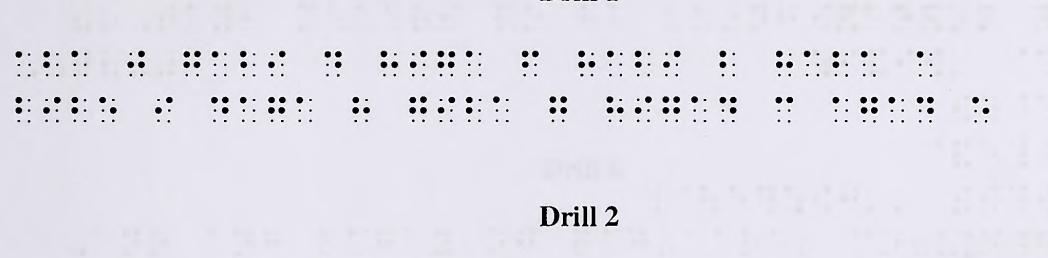a: (803, 50, 820, 78), (916, 51, 933, 78), (71, 49, 87, 77), (14, 51, 31, 77), (211, 50, 227, 77), (466, 50, 482, 77), (607, 50, 623, 77), (861, 50, 877, 77), (888, 96, 904, 123), (296, 96, 312, 122), (493, 96, 509, 122), (691, 96, 707, 122), (240, 97, 256, 122), (832, 97, 848, 122)
b: (831, 50, 849, 77), (635, 50, 651, 78), (719, 50, 735, 77), (15, 96, 31, 123), (43, 51, 59, 77), (71, 96, 87, 122), (465, 97, 481, 122), (240, 50, 255, 76)
c: (775, 96, 793, 123)
d: (916, 96, 934, 123), (324, 51, 342, 77), (211, 96, 229, 122), (719, 97, 737, 122)
e: (99, 97, 117, 122), (972, 97, 989, 123)
f: (522, 51, 539, 77)
g: (409, 96, 427, 123), (183, 50, 201, 76), (437, 50, 455, 76), (549, 96, 567, 122), (662, 96, 680, 122), (860, 97, 878, 123), (268, 97, 286, 122)
h: (380, 50, 398, 77), (578, 50, 596, 77), (775, 50, 793, 77), (606, 96, 624, 122), (352, 97, 370, 122)
i: (662, 50, 681, 77), (42, 96, 61, 123), (410, 50, 427, 78), (155, 97, 173, 123), (634, 96, 652, 122), (437, 97, 455, 122), (268, 50, 285, 76)
j: (127, 50, 145, 77)
